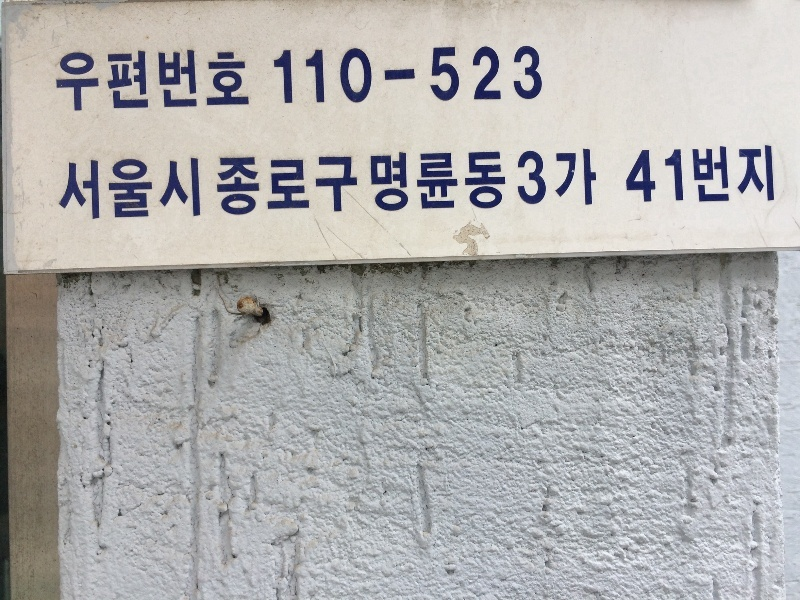text: (81, 146, 96, 224), (97, 146, 112, 224), (113, 146, 128, 224), (129, 146, 144, 224), (145, 146, 160, 224), (161, 146, 176, 224), (177, 146, 192, 224), (193, 146, 208, 224), (209, 146, 224, 224), (225, 146, 240, 224), (241, 146, 256, 224), (257, 146, 272, 224), (273, 146, 288, 224), (289, 146, 304, 224), (305, 146, 320, 224), (321, 146, 336, 224), (337, 146, 352, 224), (353, 146, 368, 224), (369, 146, 384, 224), (385, 146, 400, 224), (401, 146, 416, 224), (417, 146, 432, 224), (433, 146, 448, 224), (449, 146, 464, 224), (465, 146, 480, 224), (481, 146, 496, 224), (497, 146, 512, 224), (513, 146, 528, 224), (529, 146, 544, 224), (545, 146, 560, 224), (561, 146, 576, 224), (577, 146, 592, 224), (66, 146, 80, 224), (65, 47, 80, 114), (81, 47, 96, 114), (97, 47, 112, 114), (113, 47, 128, 114), (129, 47, 144, 114), (145, 47, 160, 114), (161, 47, 176, 114), (177, 47, 192, 114), (193, 47, 208, 114), (209, 47, 224, 114), (225, 47, 240, 114), (273, 44, 288, 107), (289, 44, 304, 107), (305, 44, 320, 107), (321, 44, 336, 107), (337, 44, 352, 107), (353, 44, 368, 107), (369, 44, 384, 107), (385, 44, 400, 107), (401, 44, 416, 107), (417, 44, 432, 107), (433, 44, 448, 107), (449, 44, 464, 107), (465, 44, 480, 107), (481, 44, 496, 107), (497, 44, 512, 107), (513, 44, 528, 107), (529, 44, 544, 107), (641, 143, 656, 205), (657, 143, 672, 205), (673, 143, 688, 205), (689, 143, 704, 205), (705, 143, 720, 205), (721, 143, 736, 205), (737, 143, 752, 205), (753, 143, 768, 205), (241, 47, 253, 114), (769, 143, 778, 205), (57, 47, 64, 114), (593, 146, 599, 224)
